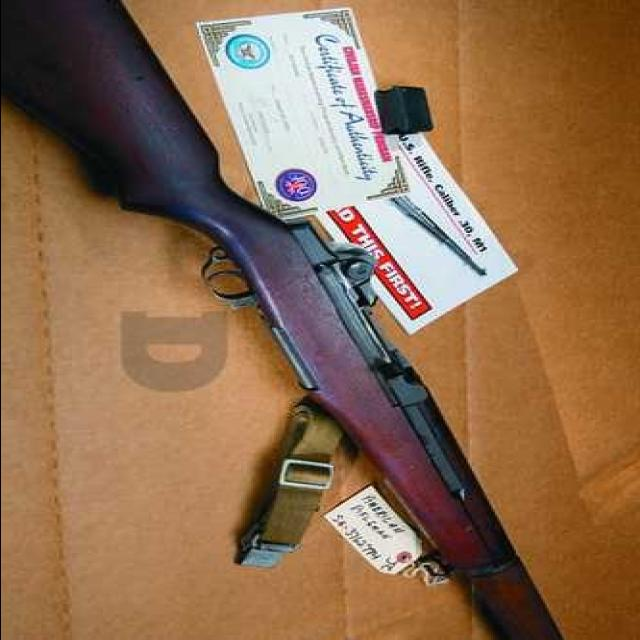heavyweapon: (1, 1, 586, 640)
